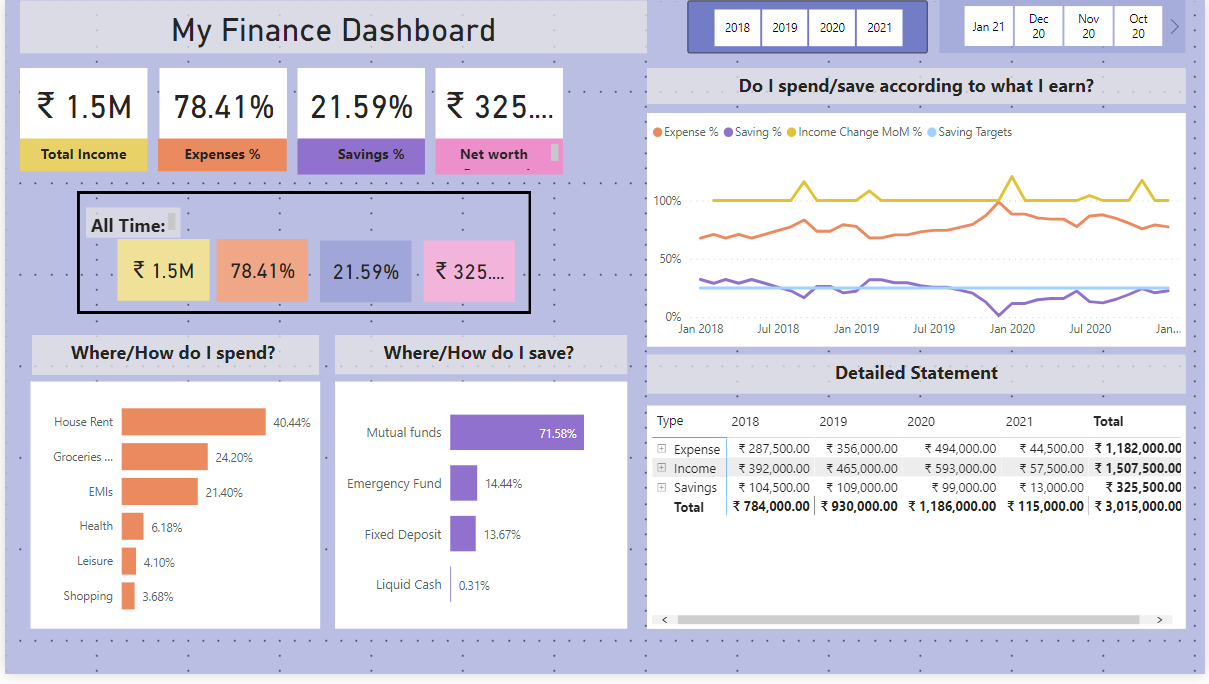

This screenshot's page, from the dashboard's own definition file:
{"tool":"powerbi","page":{"name":"Fin Board","canvas":[1280,720],"ordinal":0},"visuals":[{"type":"card","fields":{"Values":["FinData.Total Income"]},"box":[15.5,71.5,132,74.6],"z":0},{"type":"card","fields":{"Values":["FinData.Expense %"]},"box":[160,71.5,132,74.6],"z":1000},{"type":"card","fields":{"Values":["FinData.Saving %"]},"box":[302.9,71.5,132,74.6],"z":2000},{"type":"card","fields":{"Values":["FinData.Total Saving"]},"box":[445.8,71.5,132,74.6],"z":3000},{"type":"textbox","box":[445.8,144.5,132,37.3],"z":4000},{"type":"textbox","title":"Saving %","box":[302.9,144.5,132,37.3],"z":5000},{"type":"textbox","box":[158.4,144.5,133.6,34.2],"z":6000},{"type":"textbox","box":[15.5,144.5,132,34.2],"z":7000},{"type":"slicer","fields":{"Values":["FinData.Year"]},"box":[706.8,1.6,248.5,54.4],"z":8000},{"type":"slicer","fields":{"Values":["FinData.Date"]},"box":[967.8,0,254.8,55.9],"z":9000},{"type":"card","fields":{"Values":["FinData.Total Income"]},"box":[116.5,248.5,95,63.7],"z":10000},{"type":"card","fields":{"Values":["FinData.Expense %"]},"box":[219,248.5,94.8,65.2],"z":11000},{"type":"card","fields":{"Values":["FinData.Saving %"]},"box":[326.2,250.1,94.8,63.7],"z":12000},{"type":"card","fields":{"Values":["FinData.Total Saving"]},"box":[433.4,250.1,94.8,63.7],"z":13000},{"type":"textbox","box":[83.9,215.9,97.9,31.1],"z":14000},{"type":"card","fields":{"Values":["FinData.Title"]},"box":[15.5,1.6,649.3,54.4],"z":15000},{"type":"clusteredBarChart","fields":{"Category":["FinData.Component"],"Y":["FinData.Total Expense"]},"box":[26.4,396.1,299.8,256.3],"z":16000},{"type":"textbox","box":[27.4,347.4,297.1,41.1],"z":17000},{"type":"clusteredBarChart","fields":{"Category":["FinData.Component"],"Y":["FinData.Total Saving"]},"box":[341.7,396.1,302.9,256.3],"z":18000},{"type":"textbox","box":[341.7,348,302.9,40.4],"z":19000},{"type":"lineChart","fields":{"Y":["FinData.Expense %","FinData.Saving %","FinData.Income Change MoM %","FinData.Saving Targets"],"Category":["FinData.Date"]},"box":[664.9,118.1,557.7,242.3],"z":20000},{"type":"textbox","box":[664.9,71.5,557.7,37.3],"z":21000},{"type":"pivotTable","fields":{"Values":["FinData.Value Measure"],"Columns":["FinData.Year","FinData.Date"],"Rows":["FinData.Type","FinData.Component"]},"box":[664.9,421,557.7,231.5],"z":22000},{"type":"shape","box":[74.6,198.8,470.7,127.4],"z":23000},{"type":"textbox","box":[664.9,368.2,557.7,40.4],"z":23002}]}

Visuals, with their boxes in screenshot pixels (x1, y1, x2, y2), scaled from the page's 1280x720 canvas onto the 1209x684 screenshot:
card - FinData.Total Income: <region>15, 68, 139, 139</region>
card - FinData.Expense %: <region>151, 68, 276, 139</region>
card - FinData.Saving %: <region>286, 68, 411, 139</region>
card - FinData.Total Saving: <region>421, 68, 546, 139</region>
textbox: <region>421, 137, 546, 173</region>
"Saving %" textbox: <region>286, 137, 411, 173</region>
textbox: <region>150, 137, 276, 170</region>
textbox: <region>15, 137, 139, 170</region>
slicer - FinData.Year: <region>668, 2, 902, 53</region>
slicer - FinData.Date: <region>914, 0, 1155, 53</region>
card - FinData.Total Income: <region>110, 236, 200, 297</region>
card - FinData.Expense %: <region>207, 236, 296, 298</region>
card - FinData.Saving %: <region>308, 238, 398, 298</region>
card - FinData.Total Saving: <region>409, 238, 499, 298</region>
textbox: <region>79, 205, 172, 235</region>
card - FinData.Title: <region>15, 2, 628, 53</region>
clusteredBarChart - FinData.Component x FinData.Total Expense: <region>25, 376, 308, 620</region>
textbox: <region>26, 330, 307, 369</region>
clusteredBarChart - FinData.Component x FinData.Total Saving: <region>323, 376, 609, 620</region>
textbox: <region>323, 331, 609, 369</region>
lineChart - FinData.Expense % x FinData.Saving %: <region>628, 112, 1155, 342</region>
textbox: <region>628, 68, 1155, 103</region>
pivotTable - FinData.Value Measure x FinData.Year: <region>628, 400, 1155, 620</region>
shape: <region>70, 189, 515, 310</region>
textbox: <region>628, 350, 1155, 388</region>
